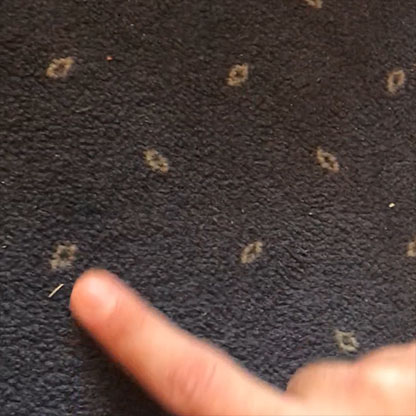fingertip: (61, 261, 131, 335)
